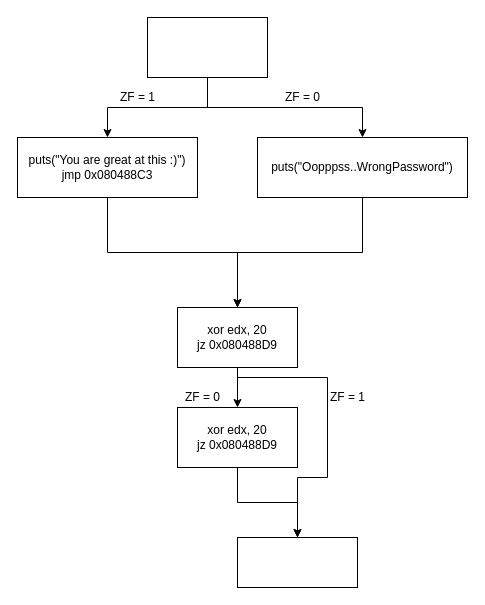
Image size: 485x605. Some labels were removed from this diagram. The shapes that lost their labels are listed below. From the top down, each one's centre as x and y in pixels, then its label:
[207,47]: main set vars test eax, eax jnz 0x080488B3
[297,562]: return
